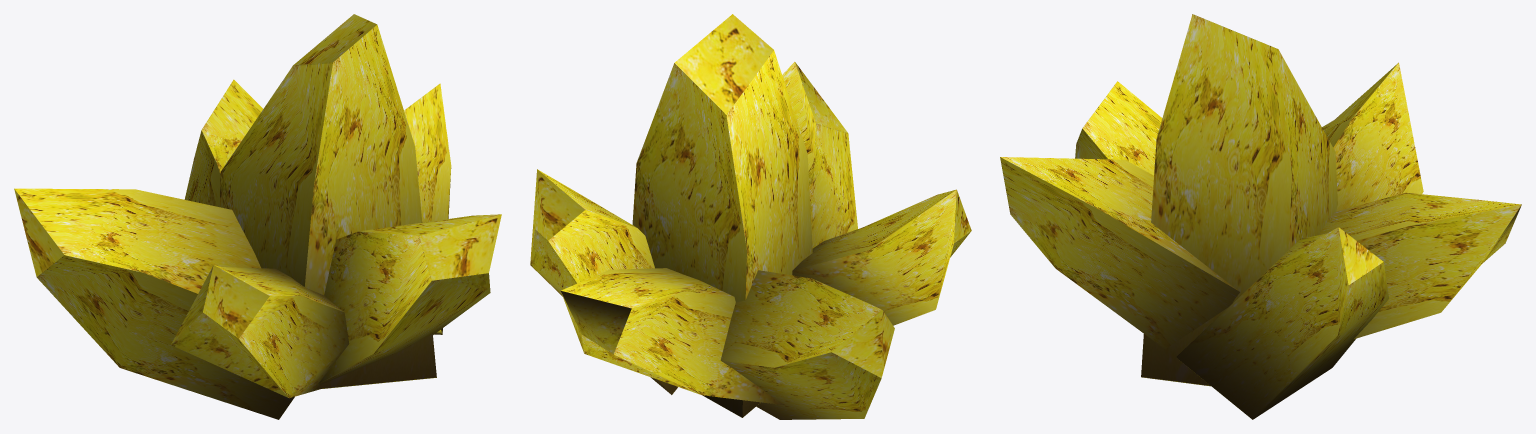
Rendered from static.glb.
3 views of the same model, side by side, from view 1: azimuth 30°, elevation 25°; view 2: azimuth 150°, elevation 25°; view 3: azimuth 270°, elevation 25° (orthographic). The views are drawn at different scales.
Parts seen in each view (by area): view 1: Cube, Cube_2, Cube_3, Cube_5, Cube_4, Cube_1; view 2: Cube, Cube_2, Cube_4, Cube_5, Cube_1, Cube_3; view 3: Cube, Cube_3, Cube_1, Cube_4, Cube_2, Cube_5.
Part boxes in pixels (box(x1,y1,x2,y2)): Cube: box(220, 14, 436, 389); Cube_2: box(14, 188, 294, 419); Cube_3: box(318, 214, 501, 384); Cube_5: box(171, 265, 349, 398); Cube_4: box(184, 79, 262, 207); Cube_1: box(404, 83, 451, 334); Cube: box(632, 14, 812, 417); Cube_2: box(720, 270, 894, 419); Cube_4: box(561, 268, 784, 405); Cube_5: box(792, 189, 971, 325); Cube_1: box(530, 169, 677, 394); Cube_3: box(782, 62, 857, 248); Cube: box(1141, 14, 1337, 386); Cube_3: box(1000, 157, 1239, 348); Cube_1: box(1176, 227, 1388, 419); Cube_4: box(1319, 192, 1521, 338); Cube_2: box(1322, 62, 1423, 211); Cube_5: box(1075, 81, 1162, 175).
Bounding box in the file's own units: 0.8609 × 0.8045 × 0.9535.
1 material, 1 textured.
